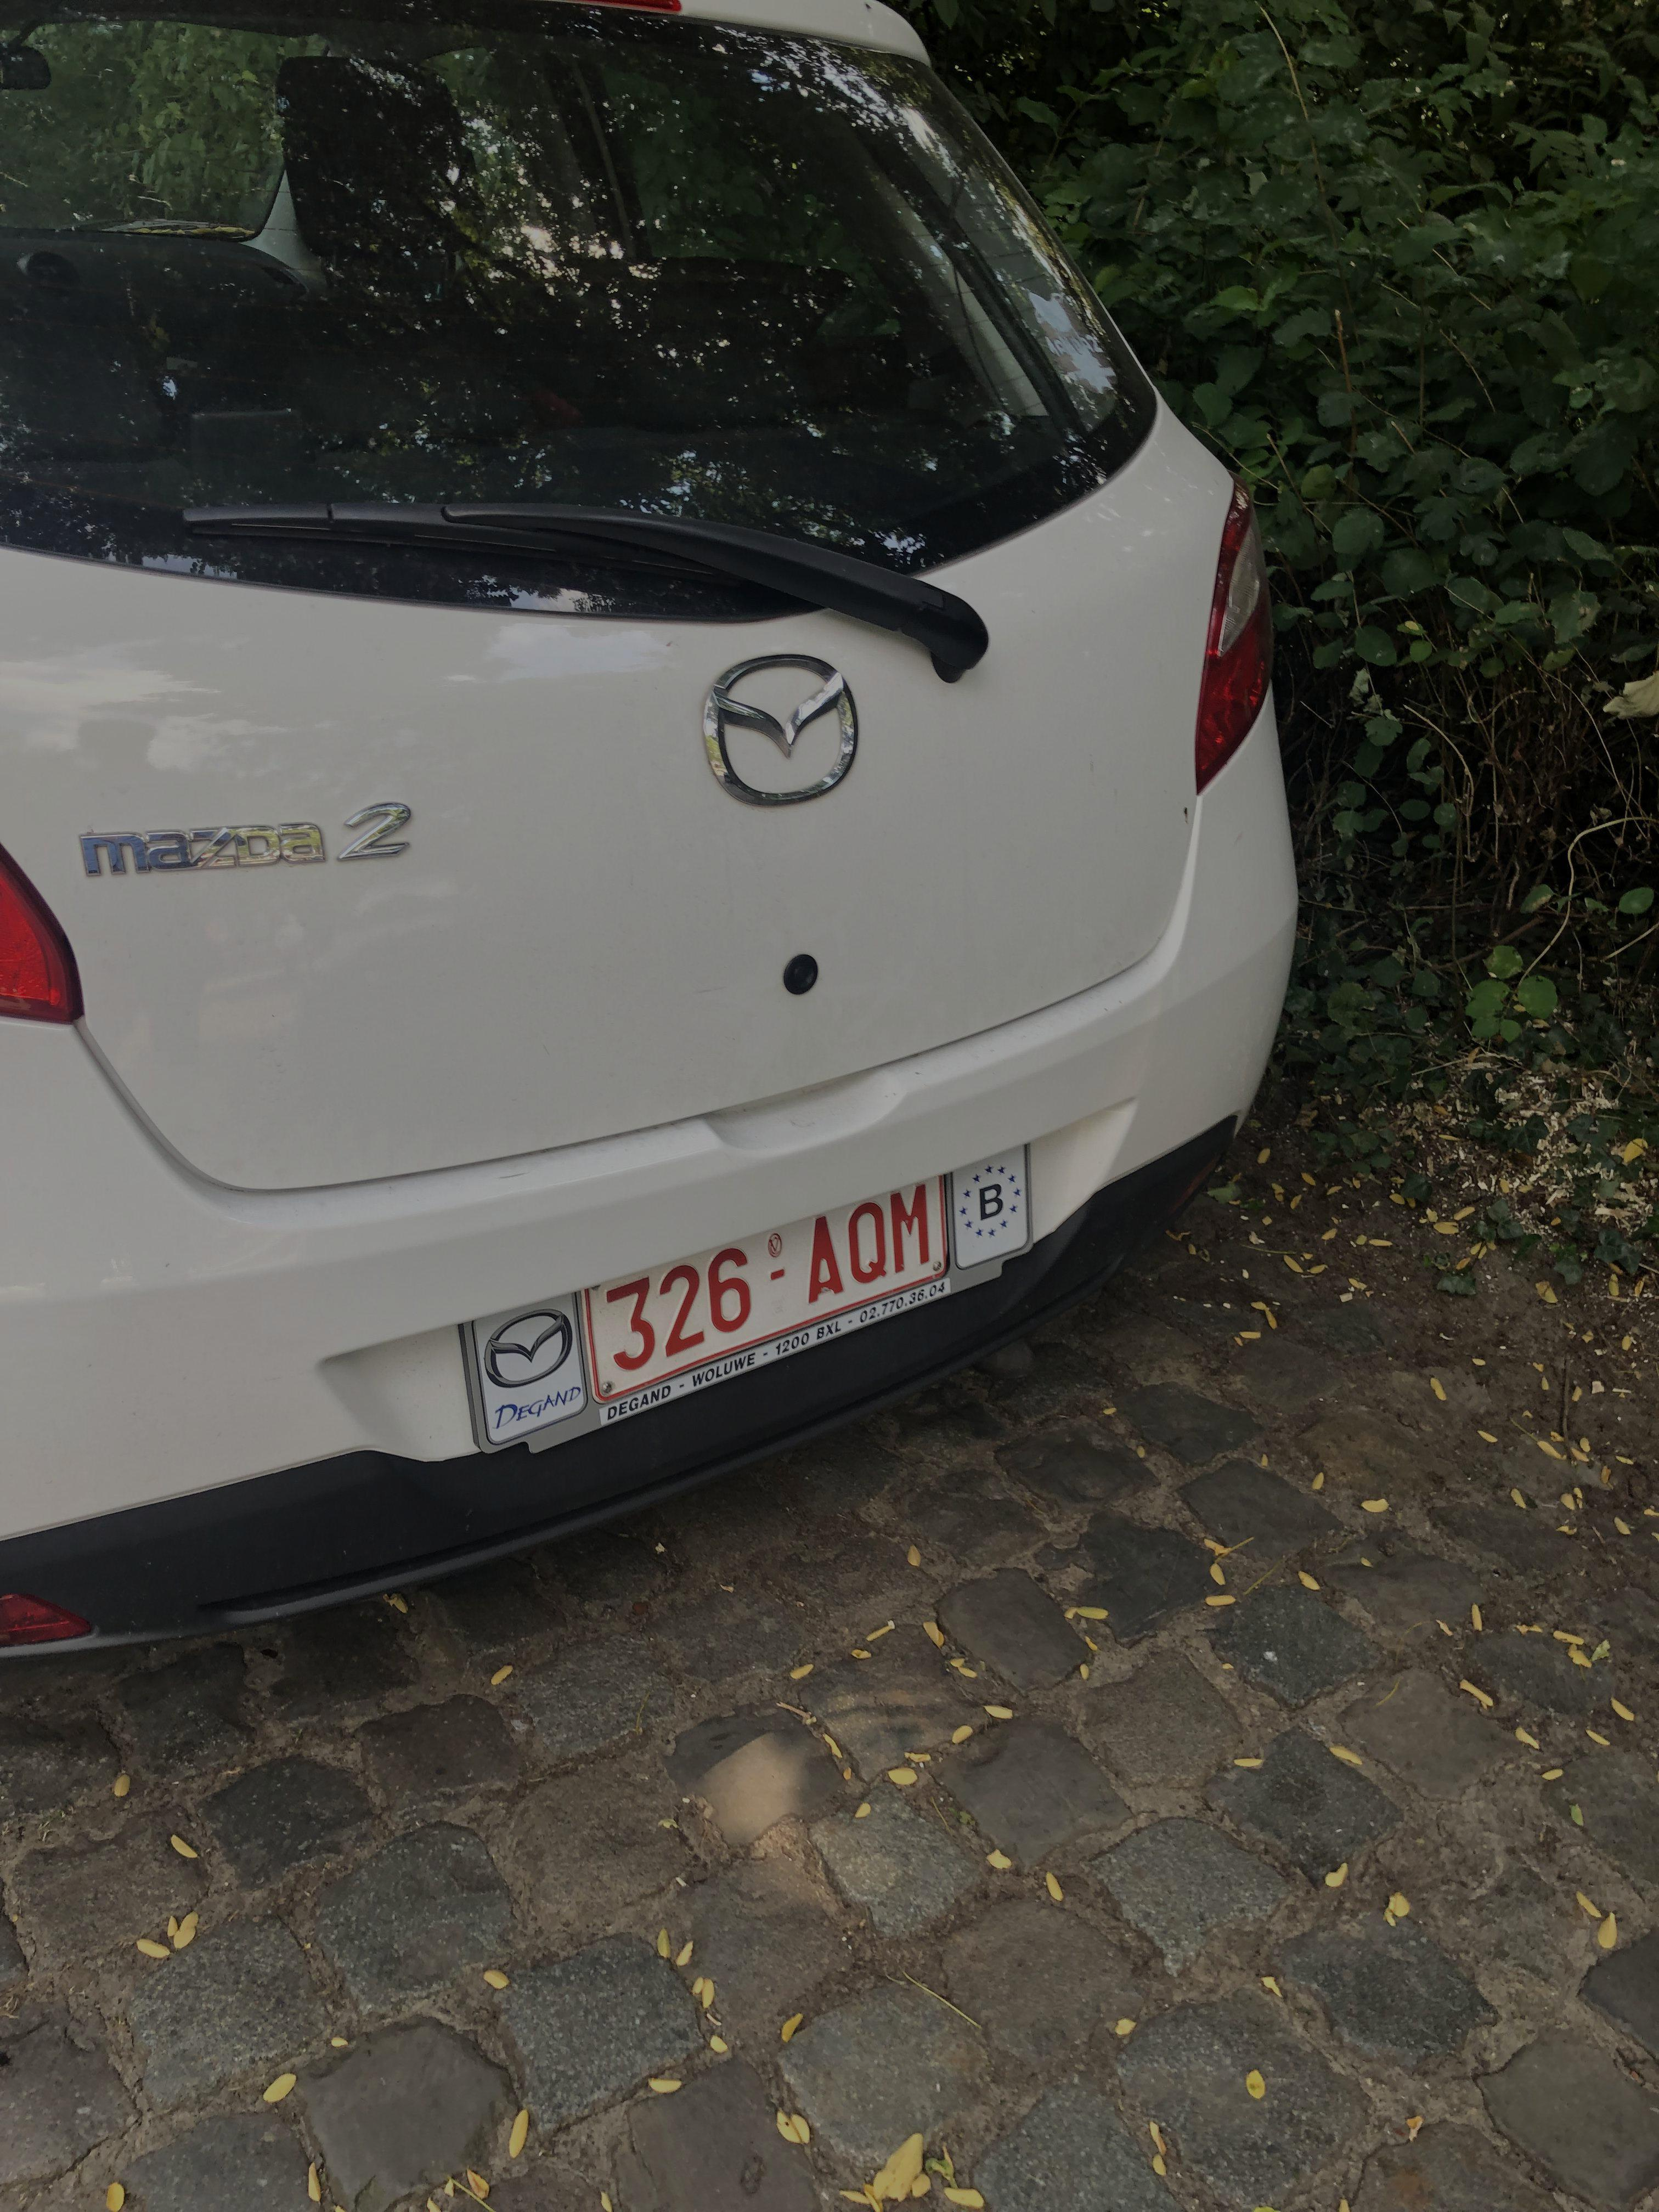plate: (459, 1123, 1052, 1452)
